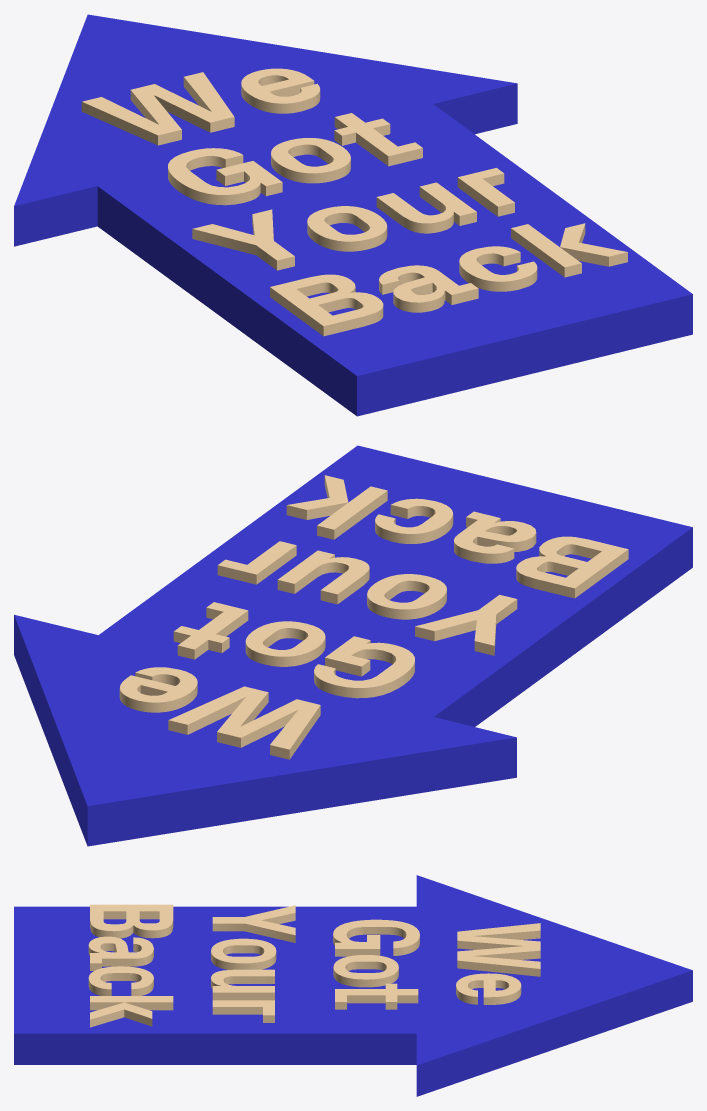
The model's file is arrow.dae.
3 views of the same model, one above another, from view 1: azimuth 30°, elevation 25°; view 2: azimuth 150°, elevation 25°; view 3: azimuth 270°, elevation 25° (orthographic). The views are drawn at different scales.
Parts seen in each view (by area): view 1: group_0, We_Got_Your_Back_3 (×14); view 2: group_0, We_Got_Your_Back_3 (×14); view 3: group_0, We_Got_Your_Back_3 (×14).
Boxes of the visible parts, x1,y1,x2,y2 form: group_0: [14, 14, 692, 416]; We_Got_Your_Back_3 (×14): [81, 68, 627, 336]; group_0: [14, 445, 692, 846]; We_Got_Your_Back_3 (×14): [119, 475, 628, 759]; group_0: [14, 875, 692, 1096]; We_Got_Your_Back_3 (×14): [88, 904, 540, 1027].
Size of the model in its own units: 41.11 by 61.89 by 3.94.
